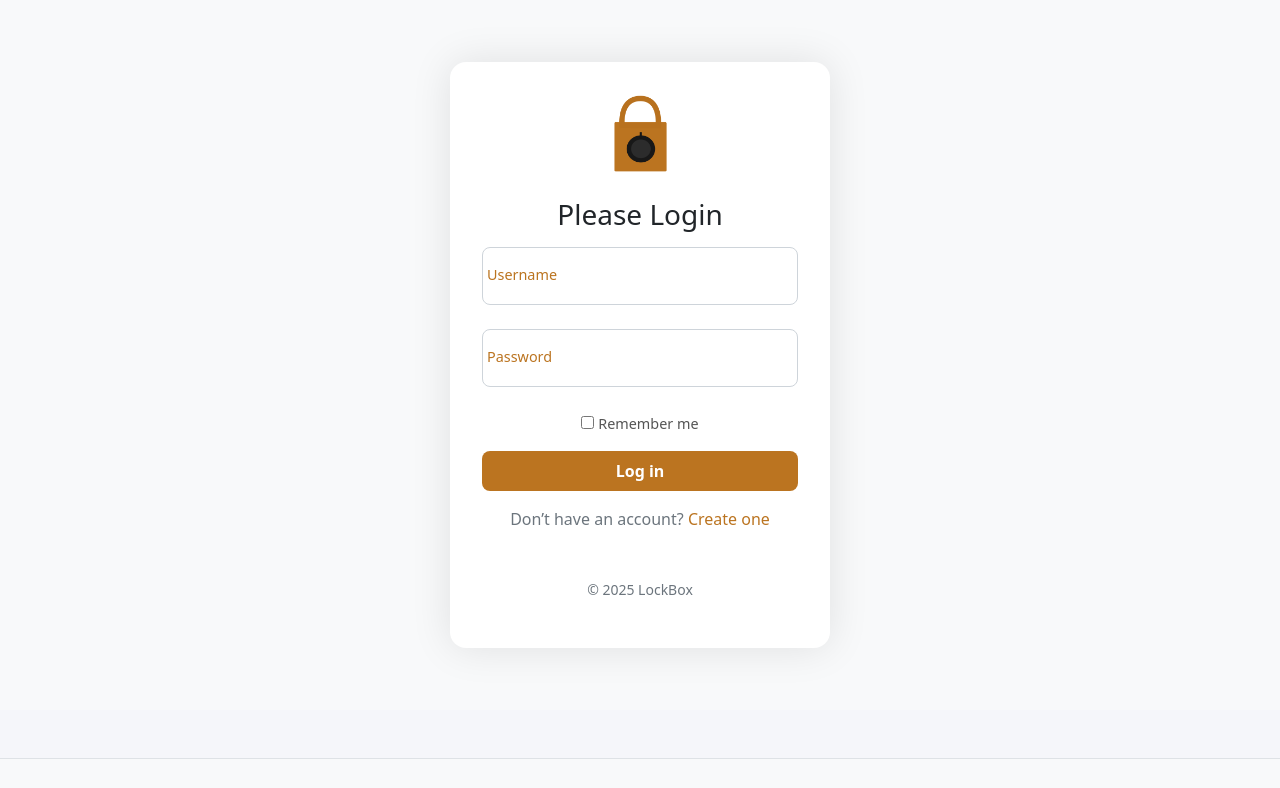
Test: Login Page Tests › should show errors if fields are empty
This screenshot has width=1280, height=788.
Click the submit button at (640, 471), box [482,451,798,491]
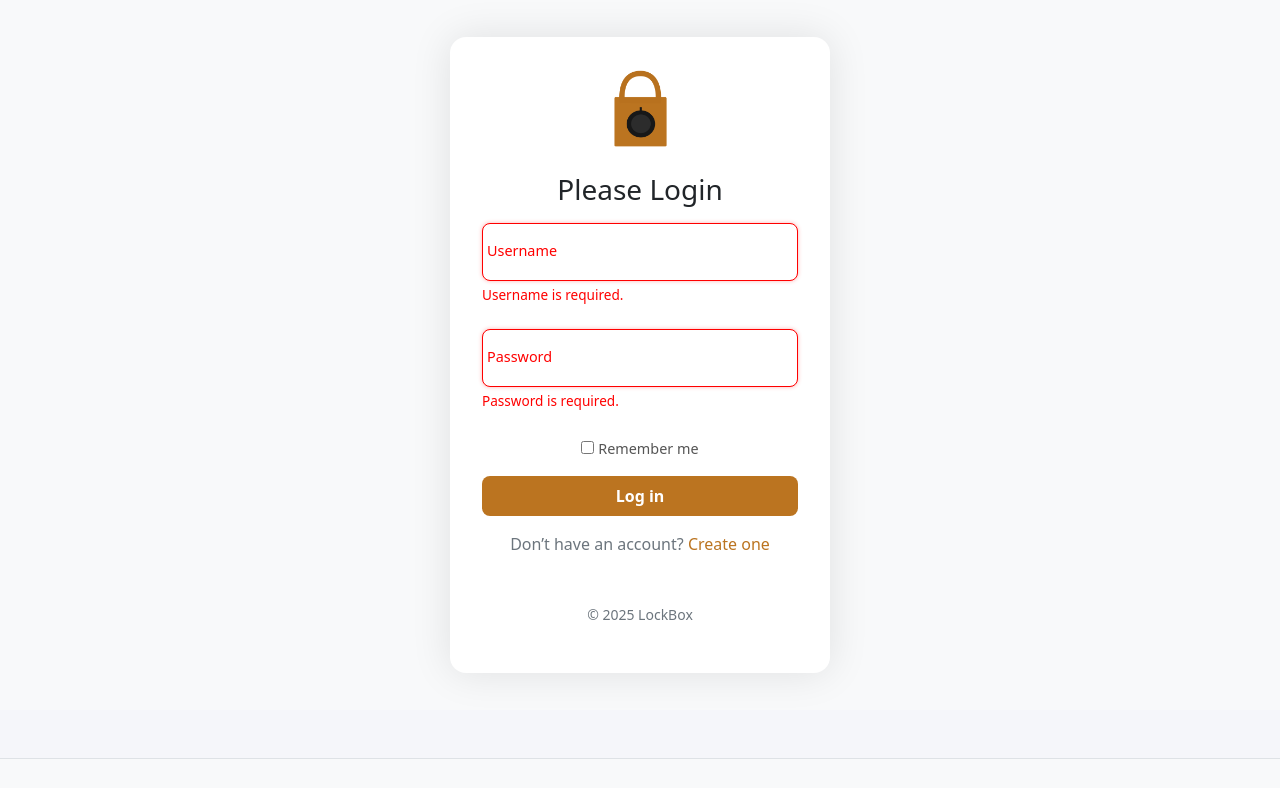
Expected: the text "Username is required." is shown, [482,285,624,305]
Expected: the text "Password is required." is shown, [482,391,619,412]
